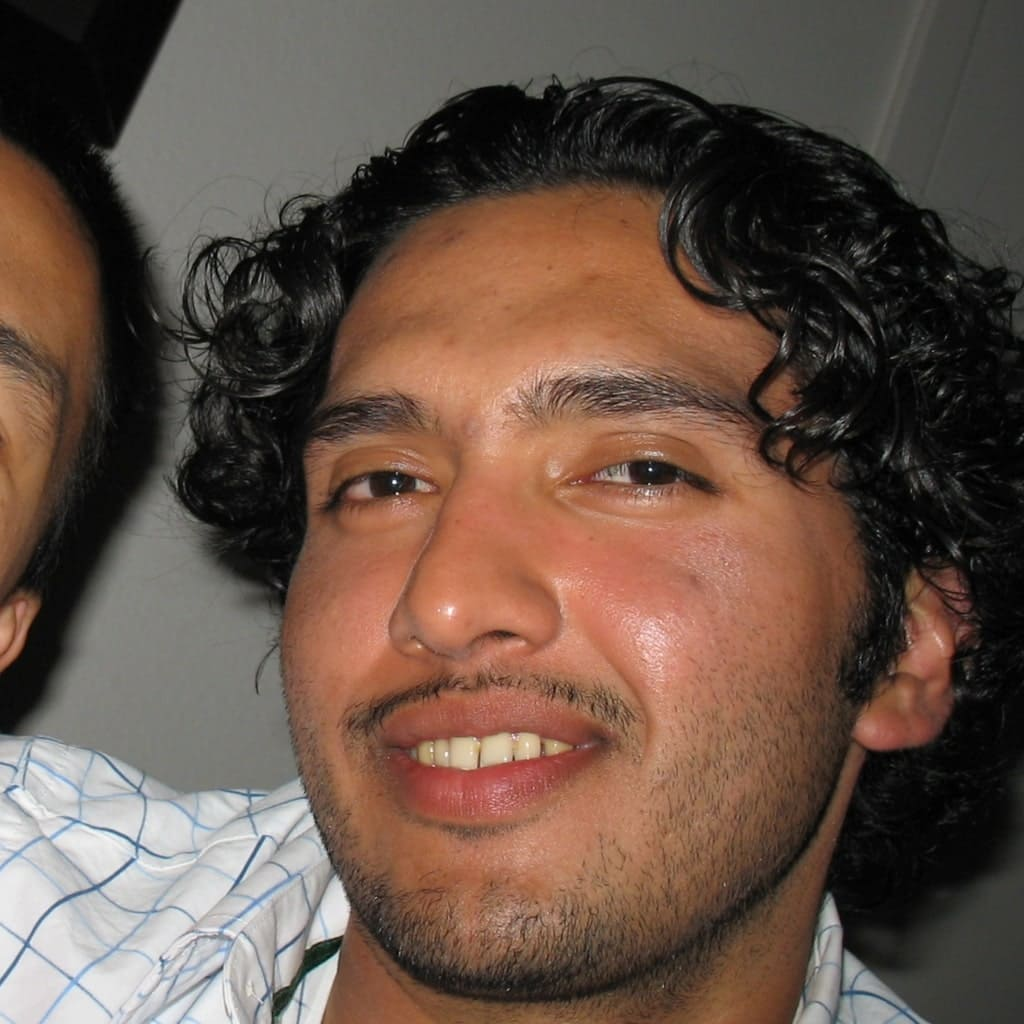without_mask: (305, 201, 841, 969)
